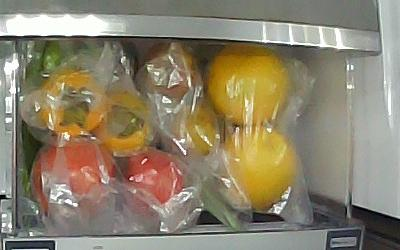apple_vinyl: (32, 138, 118, 220), (123, 148, 186, 217)
grapefruit_vinyl: (205, 43, 292, 127), (224, 128, 299, 207)
persimmon_vinyl: (43, 70, 107, 135), (94, 92, 150, 155)
prune_vinyl: (137, 43, 198, 100), (161, 103, 218, 163)
